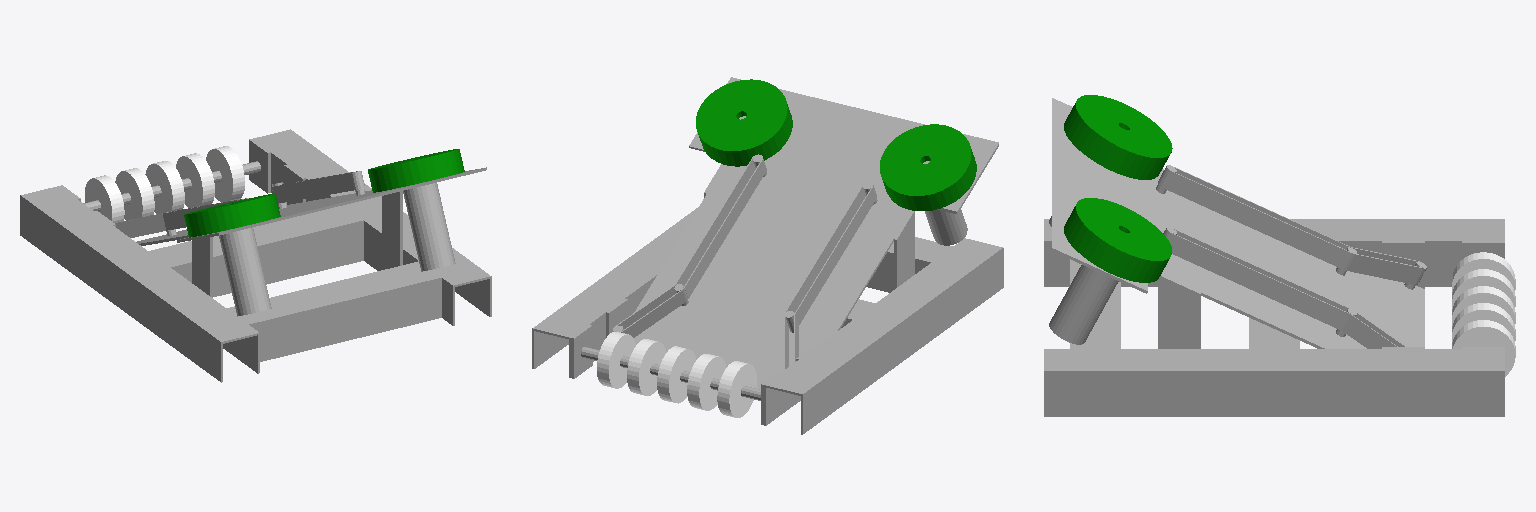
The robot description file, URDF, robot "shooter_model":
<?xml version="1.0" encoding="utf-8"?>
<!-- This URDF was automatically created by SolidWorks to URDF Exporter! Originally created by [author] ([email redacted]) 
     Commit Version: 1.5.1-0-g916b5db  Build Version: 1.5.7152.31018
     For more information, please see http://wiki.ros.org/sw_urdf_exporter -->
<robot
  name="shooter_model">
  <link
    name="base_link">
    <inertial>
      <origin
        xyz="-1.4551E-05 -0.052169 0.015838"
        rpy="0 0 0" />
      <mass
        value="1.114" />
      <inertia
        ixx="0.010163"
        ixy="-1.2916E-06"
        ixz="6.822E-07"
        iyy="0.0053317"
        iyz="0.0018095"
        izz="0.012973" />
    </inertial>
    <visual>
      <origin
        xyz="0 0 0"
        rpy="0 0 0" />
      <geometry>
        <mesh
          filename="package://shooter_model/meshes/base_link.STL" />
      </geometry>
      <material
        name="">
        <color
          rgba="0.7451 0.7451 0.7451 1" />
      </material>
    </visual>
    <collision>
      <origin
        xyz="0 0 0"
        rpy="0 0 0" />
      <geometry>
        <mesh
          filename="package://shooter_model/meshes/base_link.STL" />
      </geometry>
    </collision>
  </link>
  <link
    name="FRWheel">
    <inertial>
      <origin
        xyz="5.8031E-06 8.8354E-06 -0.0082204"
        rpy="0 0 0" />
      <mass
        value="0.16407" />
      <inertia
        ixx="3.8997E-05"
        ixy="1.6659E-08"
        ixz="4.5334E-10"
        iyy="3.9017E-05"
        iyz="-4.1666E-10"
        izz="4.9668E-05" />
    </inertial>
    <visual>
      <origin
        xyz="0 0 0"
        rpy="0 0 0" />
      <geometry>
        <mesh
          filename="package://shooter_model/meshes/FRWheel.STL" />
      </geometry>
      <material
        name="">
        <color
          rgba="0.62745 0.62745 0.62745 1" />
      </material>
    </visual>
    <collision>
      <origin
        xyz="0 0 0"
        rpy="0 0 0" />
      <geometry>
        <mesh
          filename="package://shooter_model/meshes/FRWheel.STL" />
      </geometry>
    </collision>
  </link>
  <joint
    name="FRJoint"
    type="revolute">
    <origin
      xyz="0.2066 0.168 -0.024"
      rpy="0 1.5708 0" />
    <parent
      link="base_link" />
    <child
      link="FRWheel" />
    <axis
      xyz="0 0 1" />
    <limit
      lower="0"
      upper="0"
      effort="0"
      velocity="0" />
  </joint>
  <link
    name="FLWheel">
    <inertial>
      <origin
        xyz="-3.9508E-06 4.6599E-06 -0.008236"
        rpy="0 0 0" />
      <mass
        value="0.16419" />
      <inertia
        ixx="3.9004E-05"
        ixy="-2.6354E-08"
        ixz="4.3819E-10"
        iyy="3.9012E-05"
        iyz="3.8758E-10"
        izz="4.9669E-05" />
    </inertial>
    <visual>
      <origin
        xyz="0 0 0"
        rpy="0 0 0" />
      <geometry>
        <mesh
          filename="package://shooter_model/meshes/FLWheel.STL" />
      </geometry>
      <material
        name="">
        <color
          rgba="0.62745 0.62745 0.62745 1" />
      </material>
    </visual>
    <collision>
      <origin
        xyz="0 0 0"
        rpy="0 0 0" />
      <geometry>
        <mesh
          filename="package://shooter_model/meshes/FLWheel.STL" />
      </geometry>
    </collision>
  </link>
  <joint
    name="FLJoint"
    type="revolute">
    <origin
      xyz="-0.2066 0.168 -0.024"
      rpy="3.1416 1.5708 0" />
    <parent
      link="base_link" />
    <child
      link="FLWheel" />
    <axis
      xyz="0 0 1" />
    <limit
      lower="0"
      upper="0"
      effort="0"
      velocity="0" />
  </joint>
  <link
    name="BLWheel">
    <inertial>
      <origin
        xyz="-4.1263E-06 -5.5054E-06 -0.0082799"
        rpy="0 0 0" />
      <mass
        value="0.16419" />
      <inertia
        ixx="3.8979E-05"
        ixy="-5.8741E-09"
        ixz="-5.4874E-10"
        iyy="3.9037E-05"
        iyz="-3.2364E-10"
        izz="4.9669E-05" />
    </inertial>
    <visual>
      <origin
        xyz="0 0 0"
        rpy="0 0 0" />
      <geometry>
        <mesh
          filename="package://shooter_model/meshes/BLWheel.STL" />
      </geometry>
      <material
        name="">
        <color
          rgba="0.62745 0.62745 0.62745 1" />
      </material>
    </visual>
    <collision>
      <origin
        xyz="0 0 0"
        rpy="0 0 0" />
      <geometry>
        <mesh
          filename="package://shooter_model/meshes/BLWheel.STL" />
      </geometry>
    </collision>
  </link>
  <joint
    name="BLJoint"
    type="revolute">
    <origin
      xyz="-0.2066 -0.168 -0.024"
      rpy="3.1416 1.5708 0" />
    <parent
      link="base_link" />
    <child
      link="BLWheel" />
    <axis
      xyz="0 0 1" />
    <limit
      lower="0"
      upper="0"
      effort="0"
      velocity="0" />
  </joint>
  <link
    name="BRWheel">
    <inertial>
      <origin
        xyz="5.9796E-06 -8.4624E-06 -0.0081765"
        rpy="0 0 0" />
      <mass
        value="0.16407" />
      <inertia
        ixx="3.9026E-05"
        ixy="-7.5297E-09"
        ixz="-2.3714E-10"
        iyy="3.8988E-05"
        iyz="4.905E-10"
        izz="4.9667E-05" />
    </inertial>
    <visual>
      <origin
        xyz="0 0 0"
        rpy="0 0 0" />
      <geometry>
        <mesh
          filename="package://shooter_model/meshes/BRWheel.STL" />
      </geometry>
      <material
        name="">
        <color
          rgba="0.62745 0.62745 0.62745 1" />
      </material>
    </visual>
    <collision>
      <origin
        xyz="0 0 0"
        rpy="0 0 0" />
      <geometry>
        <mesh
          filename="package://shooter_model/meshes/BRWheel.STL" />
      </geometry>
    </collision>
  </link>
  <joint
    name="BRJoint"
    type="revolute">
    <origin
      xyz="0.2066 -0.168 -0.024"
      rpy="0 1.5708 0" />
    <parent
      link="base_link" />
    <child
      link="BRWheel" />
    <axis
      xyz="0 0 1" />
    <limit
      lower="0"
      upper="0"
      effort="0"
      velocity="0" />
  </joint>
  <link
    name="ShooterRight">
    <inertial>
      <origin
        xyz="0 0 -1.3878E-17"
        rpy="0 0 0" />
      <mass
        value="0.20305" />
      <inertia
        ixx="0.00014375"
        ixy="-5.9707E-23"
        ixz="3.6016E-21"
        iyy="0.00014375"
        iyz="1.3553E-20"
        izz="0.00026566" />
    </inertial>
    <visual>
      <origin
        xyz="0 0 0"
        rpy="0 0 0" />
      <geometry>
        <mesh
          filename="package://shooter_model/meshes/ShooterRight.STL" />
      </geometry>
      <material
        name="">
        <color
          rgba="0.047059 0.61569 0.047059 1" />
      </material>
    </visual>
    <collision>
      <origin
        xyz="0 0 0"
        rpy="0 0 0" />
      <geometry>
        <mesh
          filename="package://shooter_model/meshes/ShooterRight.STL" />
      </geometry>
    </collision>
  </link>
  <joint
    name="SRJoint"
    type="revolute">
    <origin
      xyz="0.1143 -0.14693 0.10996"
      rpy="-0.46365 0 0" />
    <parent
      link="base_link" />
    <child
      link="ShooterRight" />
    <axis
      xyz="0 0 1" />
    <limit
      lower="0"
      upper="0"
      effort="0"
      velocity="0" />
  </joint>
  <link
    name="ShooterLeft">
    <inertial>
      <origin
        xyz="0 0 -1.3878E-17"
        rpy="0 0 0" />
      <mass
        value="0.20305" />
      <inertia
        ixx="0.00014375"
        ixy="8.0021E-21"
        ixz="5.0386E-21"
        iyy="0.00014375"
        iyz="1.3553E-20"
        izz="0.00026566" />
    </inertial>
    <visual>
      <origin
        xyz="0 0 0"
        rpy="0 0 0" />
      <geometry>
        <mesh
          filename="package://shooter_model/meshes/ShooterLeft.STL" />
      </geometry>
      <material
        name="">
        <color
          rgba="0.047059 0.61569 0.047059 1" />
      </material>
    </visual>
    <collision>
      <origin
        xyz="0 0 0"
        rpy="0 0 0" />
      <geometry>
        <mesh
          filename="package://shooter_model/meshes/ShooterLeft.STL" />
      </geometry>
    </collision>
  </link>
  <joint
    name="SLJoint"
    type="revolute">
    <origin
      xyz="-0.1143 -0.14693 0.10996"
      rpy="-0.46365 0 0" />
    <parent
      link="base_link" />
    <child
      link="ShooterLeft" />
    <axis
      xyz="0 0 1" />
    <limit
      lower="0"
      upper="0"
      effort="0"
      velocity="0" />
  </joint>
  <link
    name="Roller">
    <inertial>
      <origin
        xyz="0 0 0"
        rpy="0 0 0" />
      <mass
        value="0.1" />
      <inertia
        ixx="0.01"
        ixy="0"
        ixz="0"
        iyy="0.01"
        iyz="0"
        izz="0.01" />
    </inertial>
    <visual>
      <origin
        xyz="0 0 0"
        rpy="0 0 0" />
      <geometry>
        <mesh
          filename="package://shooter_model/meshes/Roller.STL" />
      </geometry>
      <material
        name="">
        <color
          rgba="1 1 1 1" />
      </material>
    </visual>
    <collision>
      <origin
        xyz="0 0 0"
        rpy="0 0 0" />
      <geometry>
        <mesh
          filename="package://shooter_model/meshes/Roller.STL" />
      </geometry>
    </collision>
  </link>
  <joint
    name="RollerJoint"
    type="continuous">
    <origin
      xyz="0.0075 0.196 -0.024"
      rpy="0 1.5708 0" />
    <parent
      link="base_link" />
    <child
      link="Roller" />
    <axis
      xyz="0 0 1" />
  </joint>
</robot>

--- What the picture shows (computed from the rendered views, not written in the file) ---
Views: 3 orthographic renders of the robot side by side, from view 1: azimuth 30°, elevation 25°; view 2: azimuth 150°, elevation 25°; view 3: azimuth 270°, elevation 25°.
Robot: shooter_model — 8 links, 7 joints (6 revolute, 1 continuous); root link base_link; default pose: every joint at zero.
Links seen in each view (by area): view 1: base_link, Roller, ShooterRight, ShooterLeft; view 2: base_link, Roller, ShooterLeft, ShooterRight; view 3: base_link, ShooterRight, ShooterLeft, Roller.
Boxes of the visible links, x1,y1,x2,y2 form: base_link: (20,129,491,382); Roller: (85,146,244,222); ShooterRight: (368,149,464,192); ShooterLeft: (184,194,280,237); base_link: (532,77,1003,434); Roller: (597,332,756,417); ShooterLeft: (880,124,976,210); ShooterRight: (696,79,792,166); base_link: (1044,98,1504,416); ShooterRight: (1064,198,1171,282); ShooterLeft: (1064,95,1172,179); Roller: (1452,252,1515,376).
Bounding box of the posed robot: 0.336 × 0.4419 × 0.198 m (x, y, z).
Meshes: 8 distinct files referenced, 4 mesh visuals loaded (4 binary STL); not drawn: 4 (reference not matched to a file when rendering).